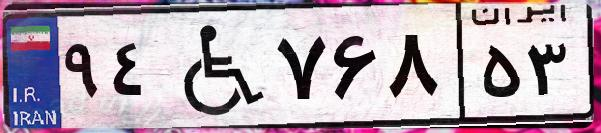3: (525, 38, 570, 115)
4: (110, 28, 158, 98)
5: (475, 38, 525, 113)
6: (330, 28, 385, 110)
7: (270, 28, 330, 110)
8: (385, 28, 445, 110)
9: (57, 26, 110, 100)
ژ (معلولین و جانبازان): (158, 12, 270, 120)
